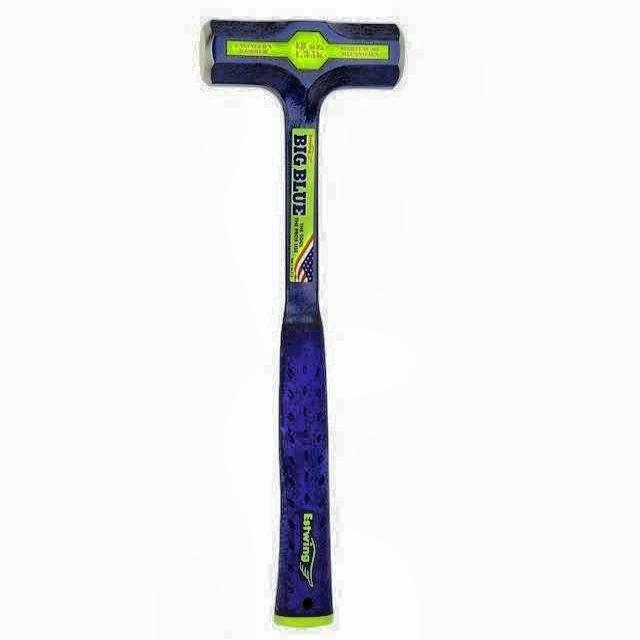hammer: (202, 14, 403, 638)
